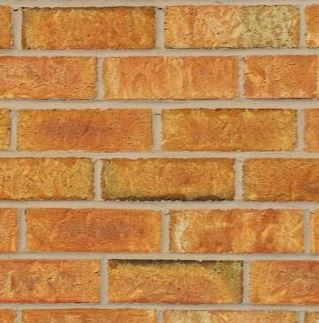brick: (23, 205, 164, 256), (106, 257, 245, 306), (15, 106, 156, 154), (167, 207, 307, 255), (101, 55, 240, 102), (159, 108, 301, 154), (19, 5, 159, 51), (99, 155, 237, 201), (163, 4, 303, 49), (1, 256, 103, 305), (1, 53, 99, 103), (1, 156, 94, 204), (241, 154, 319, 204), (243, 54, 319, 101), (249, 257, 319, 304)
